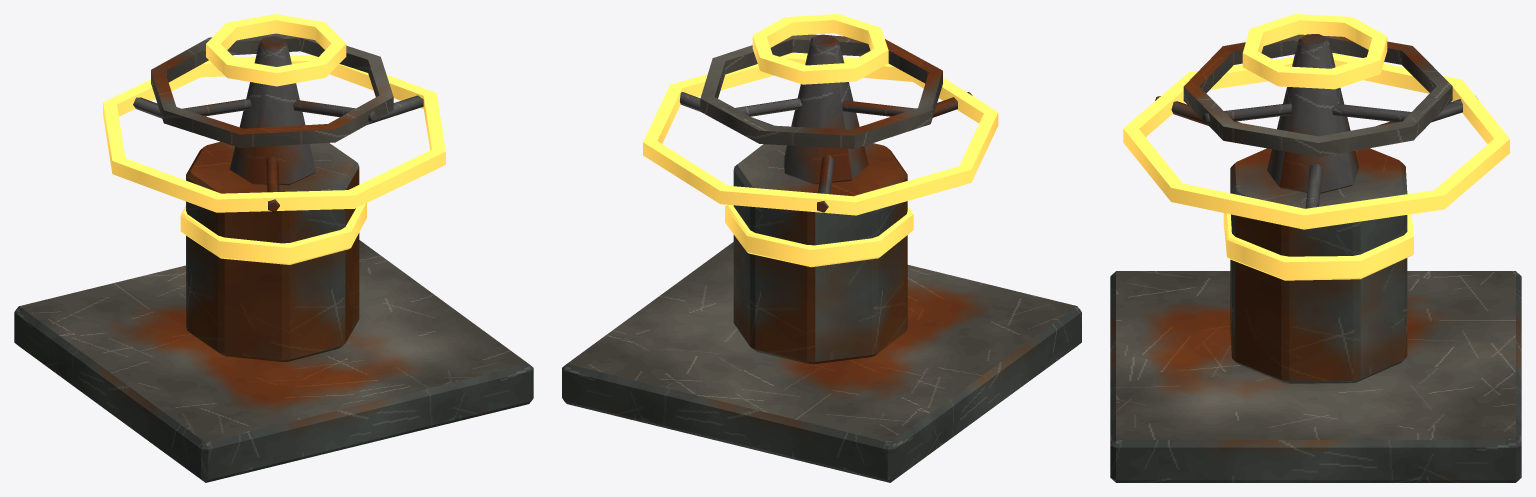
File: R4X_SupportTurretDeployer_LOD1.glb
3 views of the same model, side by side, from view 1: azimuth 30°, elevation 25°; view 2: azimuth 150°, elevation 25°; view 3: azimuth 270°, elevation 25° (orthographic). The views are drawn at different scales.
Visible parts, largest first — view 1: R4X_SupportTurretDeployer_LOD1; view 2: R4X_SupportTurretDeployer_LOD1; view 3: R4X_SupportTurretDeployer_LOD1.
Part boxes in pixels (bbox=[...]): R4X_SupportTurretDeployer_LOD1: bbox=[14, 14, 533, 482]; R4X_SupportTurretDeployer_LOD1: bbox=[562, 14, 1081, 482]; R4X_SupportTurretDeployer_LOD1: bbox=[1110, 14, 1521, 482].
Bounding box in the file's own units: 0.52 × 0.5 × 0.52.
Materials: 4 (3 with a texture image).
